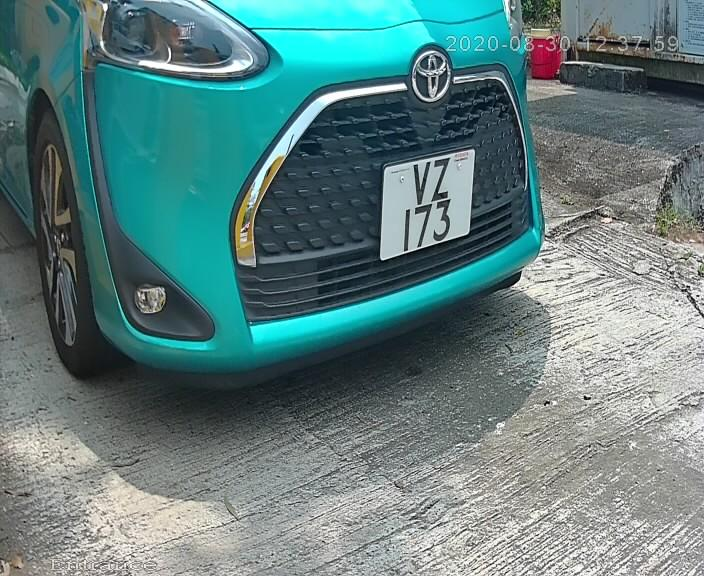Car: (7, 1, 563, 427)
License Plate: (375, 139, 478, 268)
